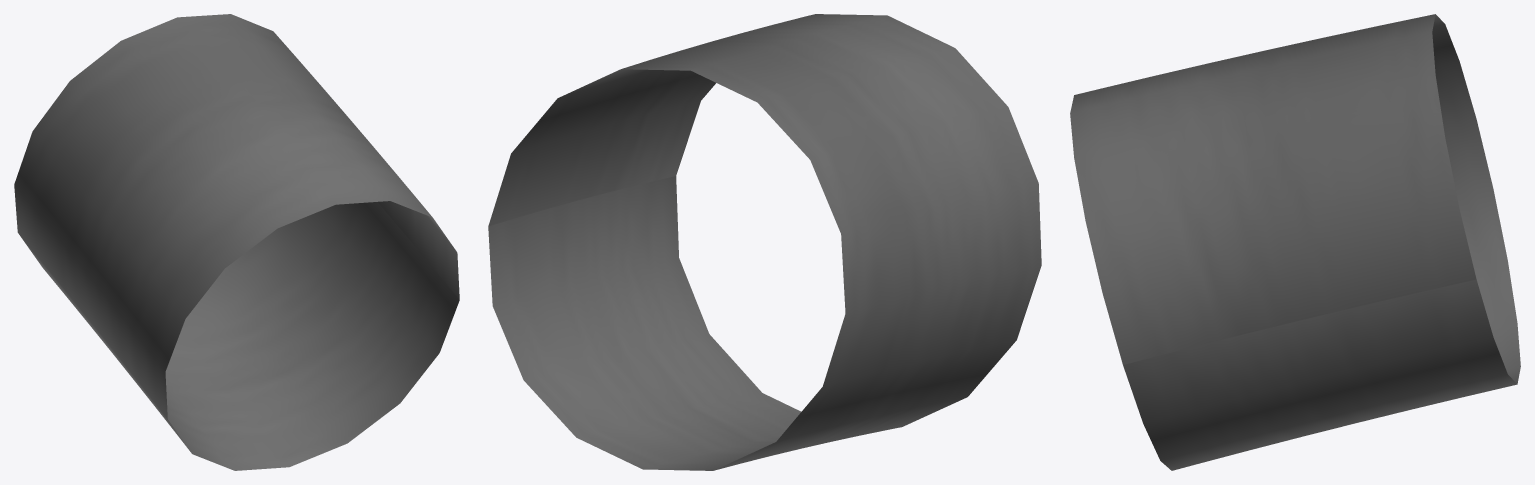
Rendered from mastarmcurve_5x1_c2.obj.
3 renders of one model, left to right at view 1: azimuth 30°, elevation 25°; view 2: azimuth 150°, elevation 25°; view 3: azimuth 270°, elevation 25°, orthographic. The views are drawn at different scales.
Parts seen in each view (by area): view 1: mastarm_5x1_c2; view 2: mastarm_5x1_c2; view 3: mastarm_5x1_c2.
Boxes of the visible parts, x1,y1,x2,y2 form: mastarm_5x1_c2: (14, 14, 459, 470); mastarm_5x1_c2: (488, 14, 1041, 470); mastarm_5x1_c2: (1070, 14, 1520, 470).
Bounding box in the file's own units: 0.5884 × 0.7026 × 0.6827.
